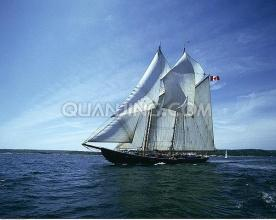fanchuan: (79, 43, 228, 165)
